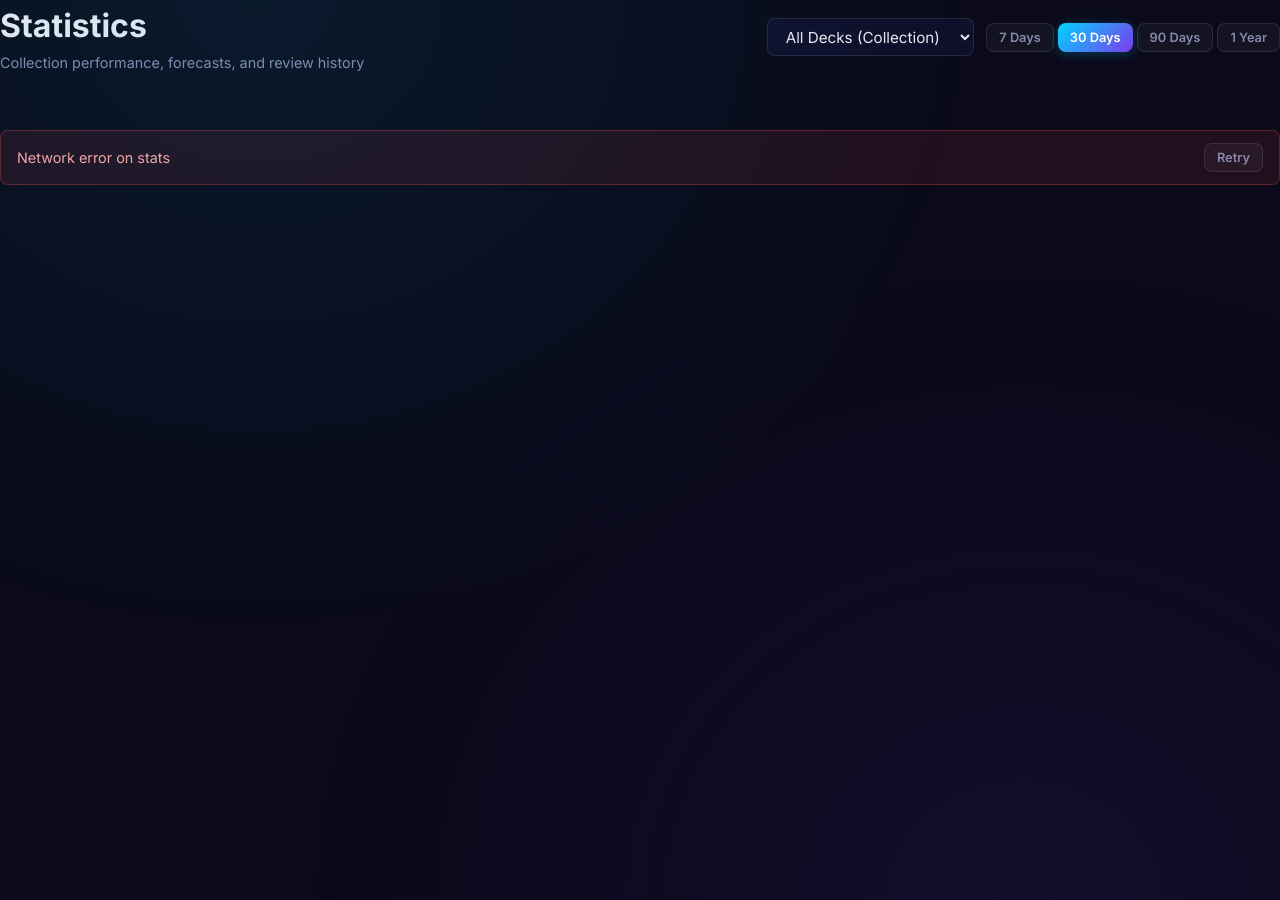
StatsPage UI and safeguards › shows error on failure and supports retry
This screenshot has width=1280, height=900.
Expected: the text "Network error on stats" is shown, x1=17 y1=146 x2=170 y2=169
Click the button "Retry". click: {"x": 1233, "y": 158}
box: x1=1204 y1=143 x2=1263 y2=172
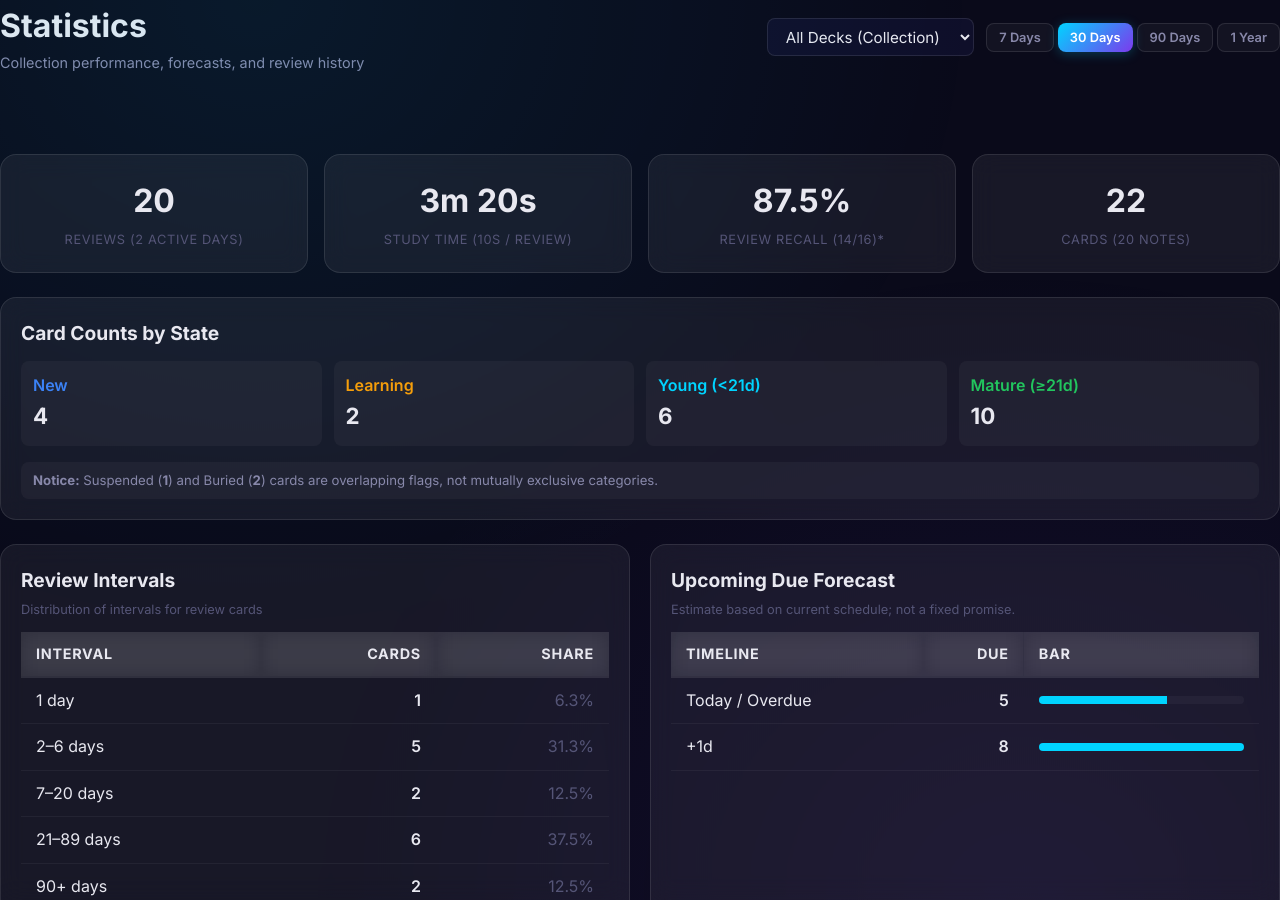
Expected: the text "Network error on stats" is gone
